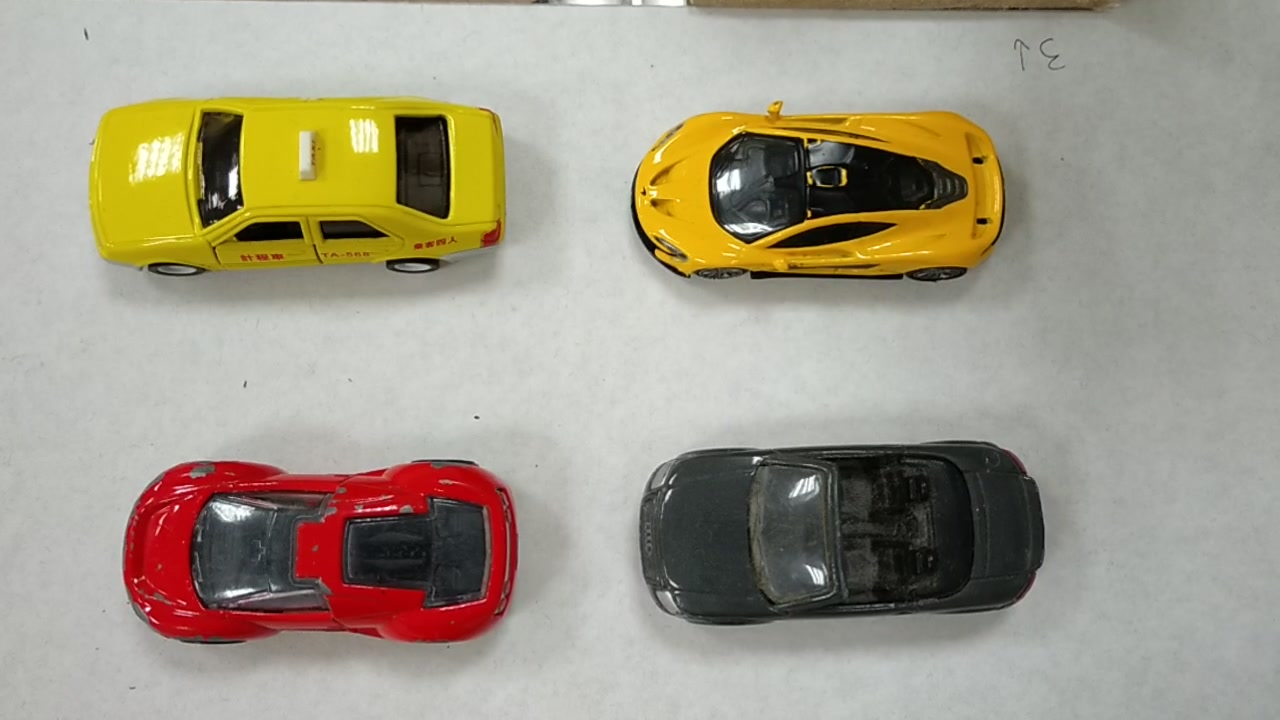car: (109, 453, 521, 645), (88, 97, 506, 273), (627, 446, 1051, 615), (613, 117, 1008, 288)
